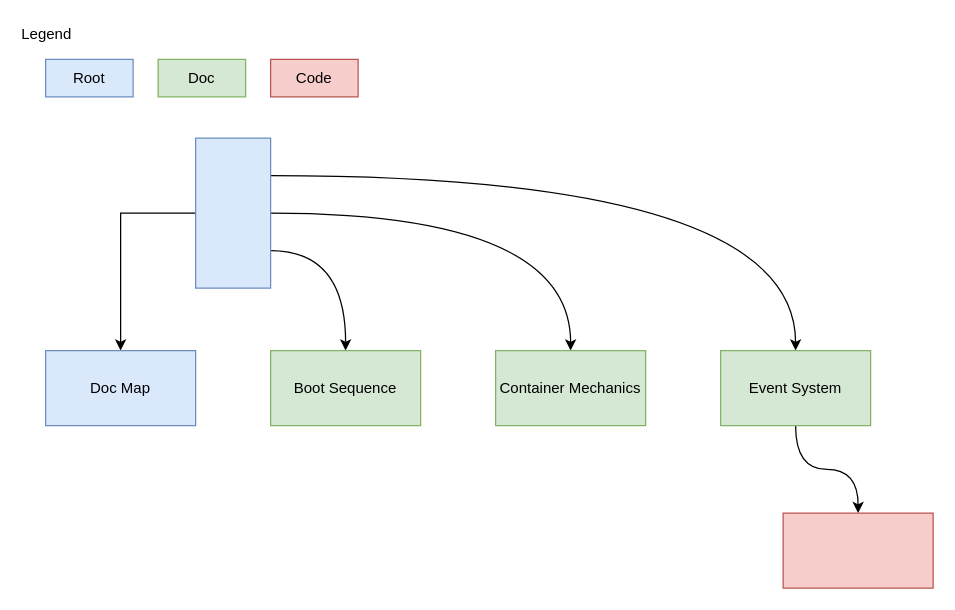
This 955x610 diagram has some shape labels left out. The centre of each missing label's shape, as x and y in pixels:
core event list: (x=857, y=550)
README: (x=232, y=212)
